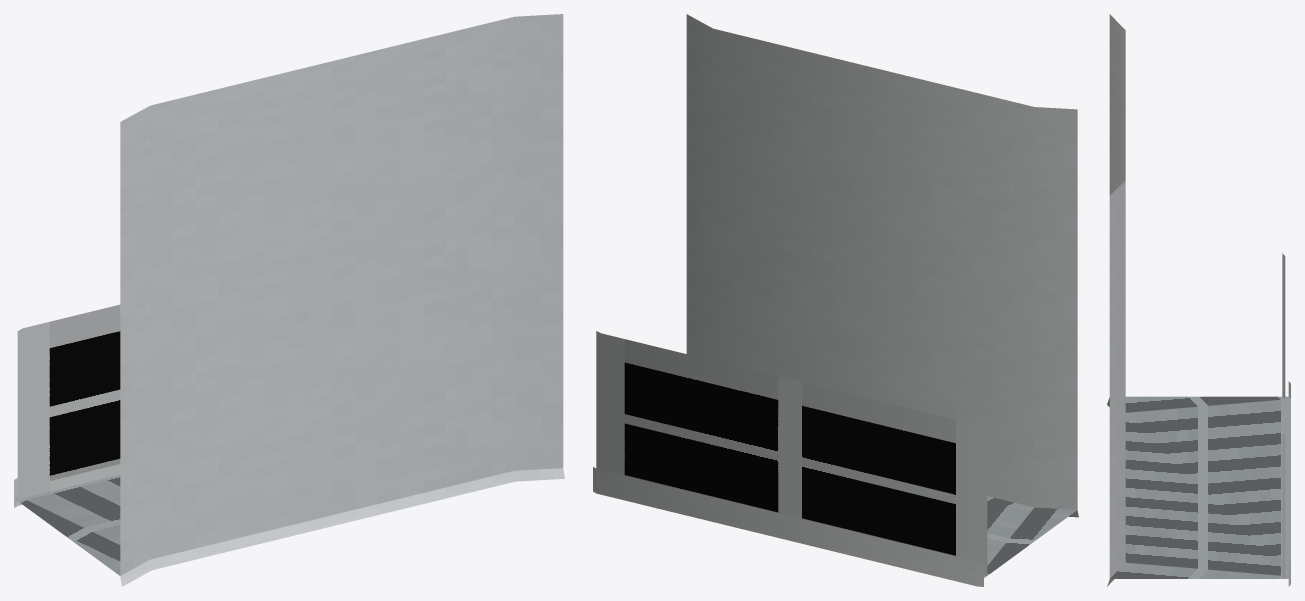
File: bowl_medium_1_2_0.obj
The picture shows the model from 3 angles, left to right: view 1: azimuth 30°, elevation 25°; view 2: azimuth 150°, elevation 25°; view 3: azimuth 270°, elevation 25°; orthographic projection. The views are drawn at different scales.
Visible parts, largest first — view 1: bowl_medium_1_2_0; view 2: bowl_medium_1_2_0; view 3: bowl_medium_1_2_0.
Boxes of the visible parts, x1=… form: bowl_medium_1_2_0: x1=14, y1=14, x2=564, y2=586; bowl_medium_1_2_0: x1=593, y1=14, x2=1078, y2=586; bowl_medium_1_2_0: x1=1107, y1=14, x2=1290, y2=586.
Size of the model in its own units: 3 by 3 by 1.28.
